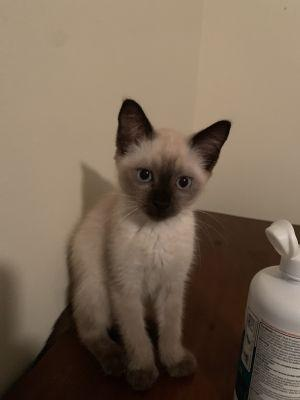siamese: (105, 86, 239, 232)
